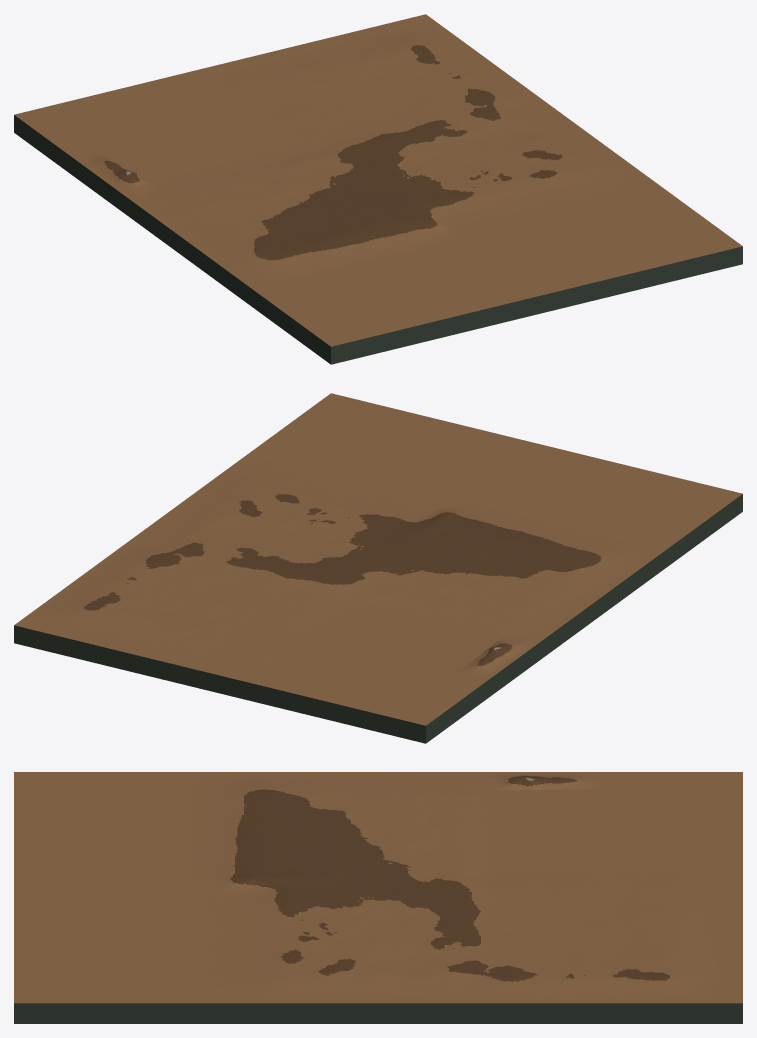
The model's file is adtg_d05.dae.
3 renders of one model, top to bottom at view 1: azimuth 30°, elevation 25°; view 2: azimuth 150°, elevation 25°; view 3: azimuth 270°, elevation 25°, orthographic. The views are drawn at different scales.
Parts seen in each view (by area): view 1: terrain_node; view 2: terrain_node; view 3: terrain_node.
Boxes of the visible parts, x1,y1,x2,y2 form: terrain_node: [14, 14, 742, 364]; terrain_node: [14, 393, 742, 743]; terrain_node: [14, 772, 742, 1023].
Size of the model in its own units: 6 by 8 by 0.3165.
